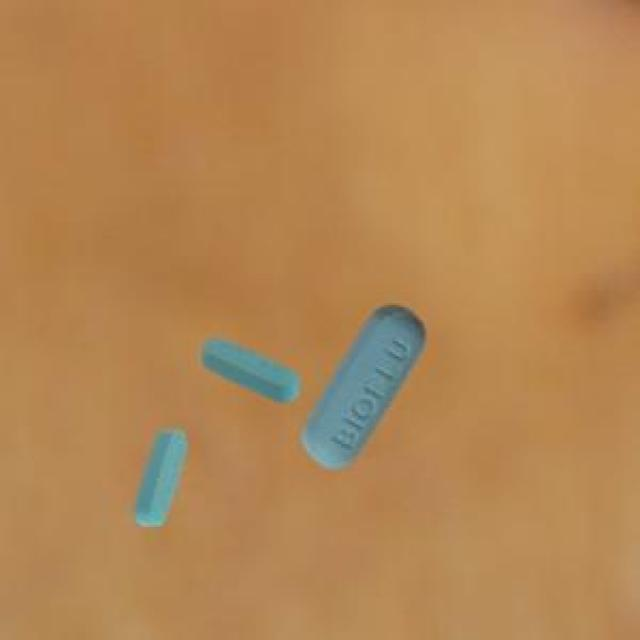Bioflu: (298, 295, 435, 475), (185, 316, 300, 409), (121, 422, 199, 537)
